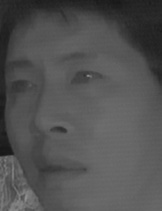eye: (69, 68, 105, 88), (6, 77, 37, 98)
mouth: (32, 151, 90, 185)
